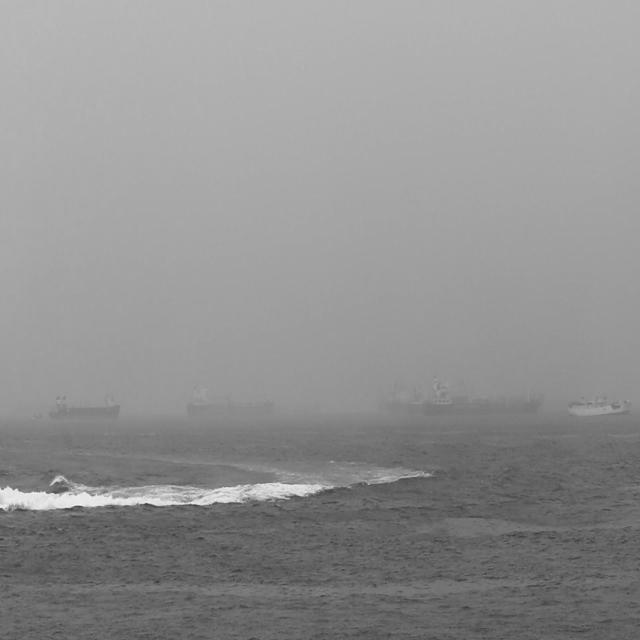ship: (428, 374, 542, 421), (186, 385, 277, 422), (52, 393, 122, 421), (569, 391, 634, 418), (379, 381, 410, 416), (411, 386, 427, 416), (32, 411, 48, 422)
